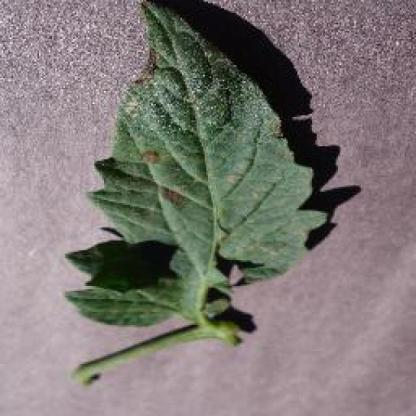Tomato_Blight: (62, 0, 327, 327)
